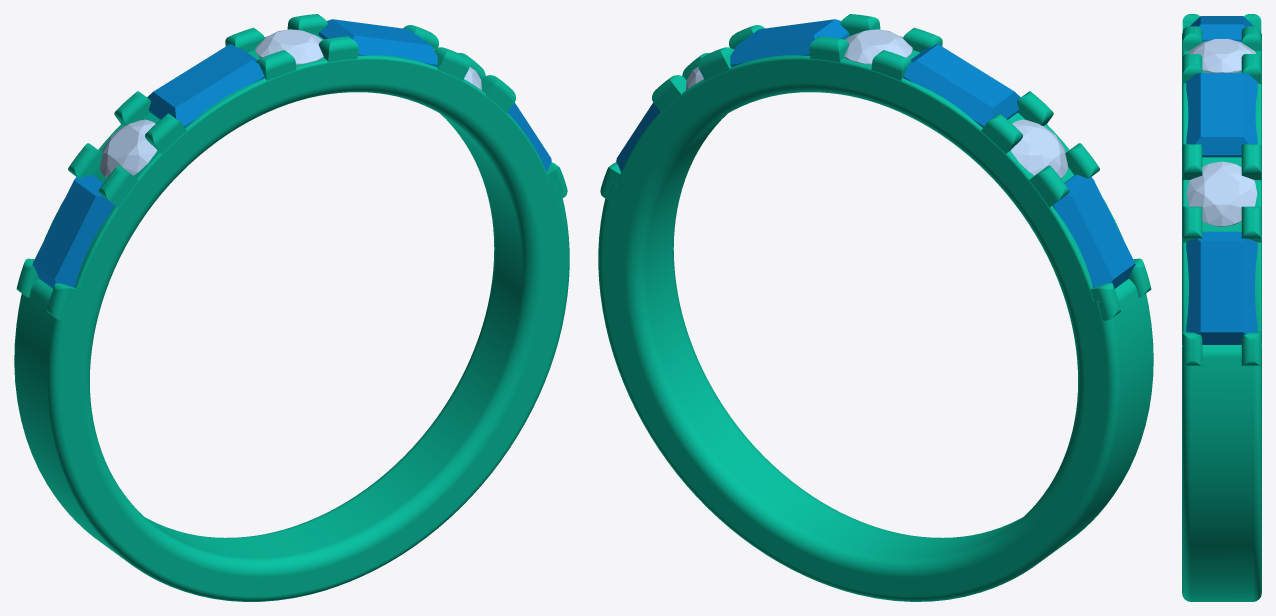
3 views of the same model, side by side, from view 1: azimuth 30°, elevation 25°; view 2: azimuth 150°, elevation 25°; view 3: azimuth 270°, elevation 25° (orthographic). The views are drawn at different scales.
Parts seen in each view (by area): view 1: 8308 NIGEL(front).3dm, Diamond_Baguette Straight (×3), Diamond_Round (×2); view 2: 8308 NIGEL(front).3dm, Diamond_Baguette Straight (×3), Diamond_Round (×2); view 3: 8308 NIGEL(front).3dm, Diamond_Baguette Straight (×3), Diamond_Round (×2).
Part boxes in pixels (box(x1,y1,x2,y2)): 8308 NIGEL(front).3dm: box(14, 14, 569, 601); Diamond_Baguette Straight (×3): box(32, 19, 437, 288); Diamond_Round (×2): box(100, 29, 323, 177); 8308 NIGEL(front).3dm: box(598, 14, 1153, 601); Diamond_Baguette Straight (×3): box(730, 19, 1135, 288); Diamond_Round (×2): box(844, 29, 1067, 177); 8308 NIGEL(front).3dm: box(1182, 14, 1261, 601); Diamond_Baguette Straight (×3): box(1186, 16, 1257, 344); Diamond_Round (×2): box(1186, 39, 1257, 226).
Size of the model in its own units: 2.81 by 2.82 by 0.3837.
